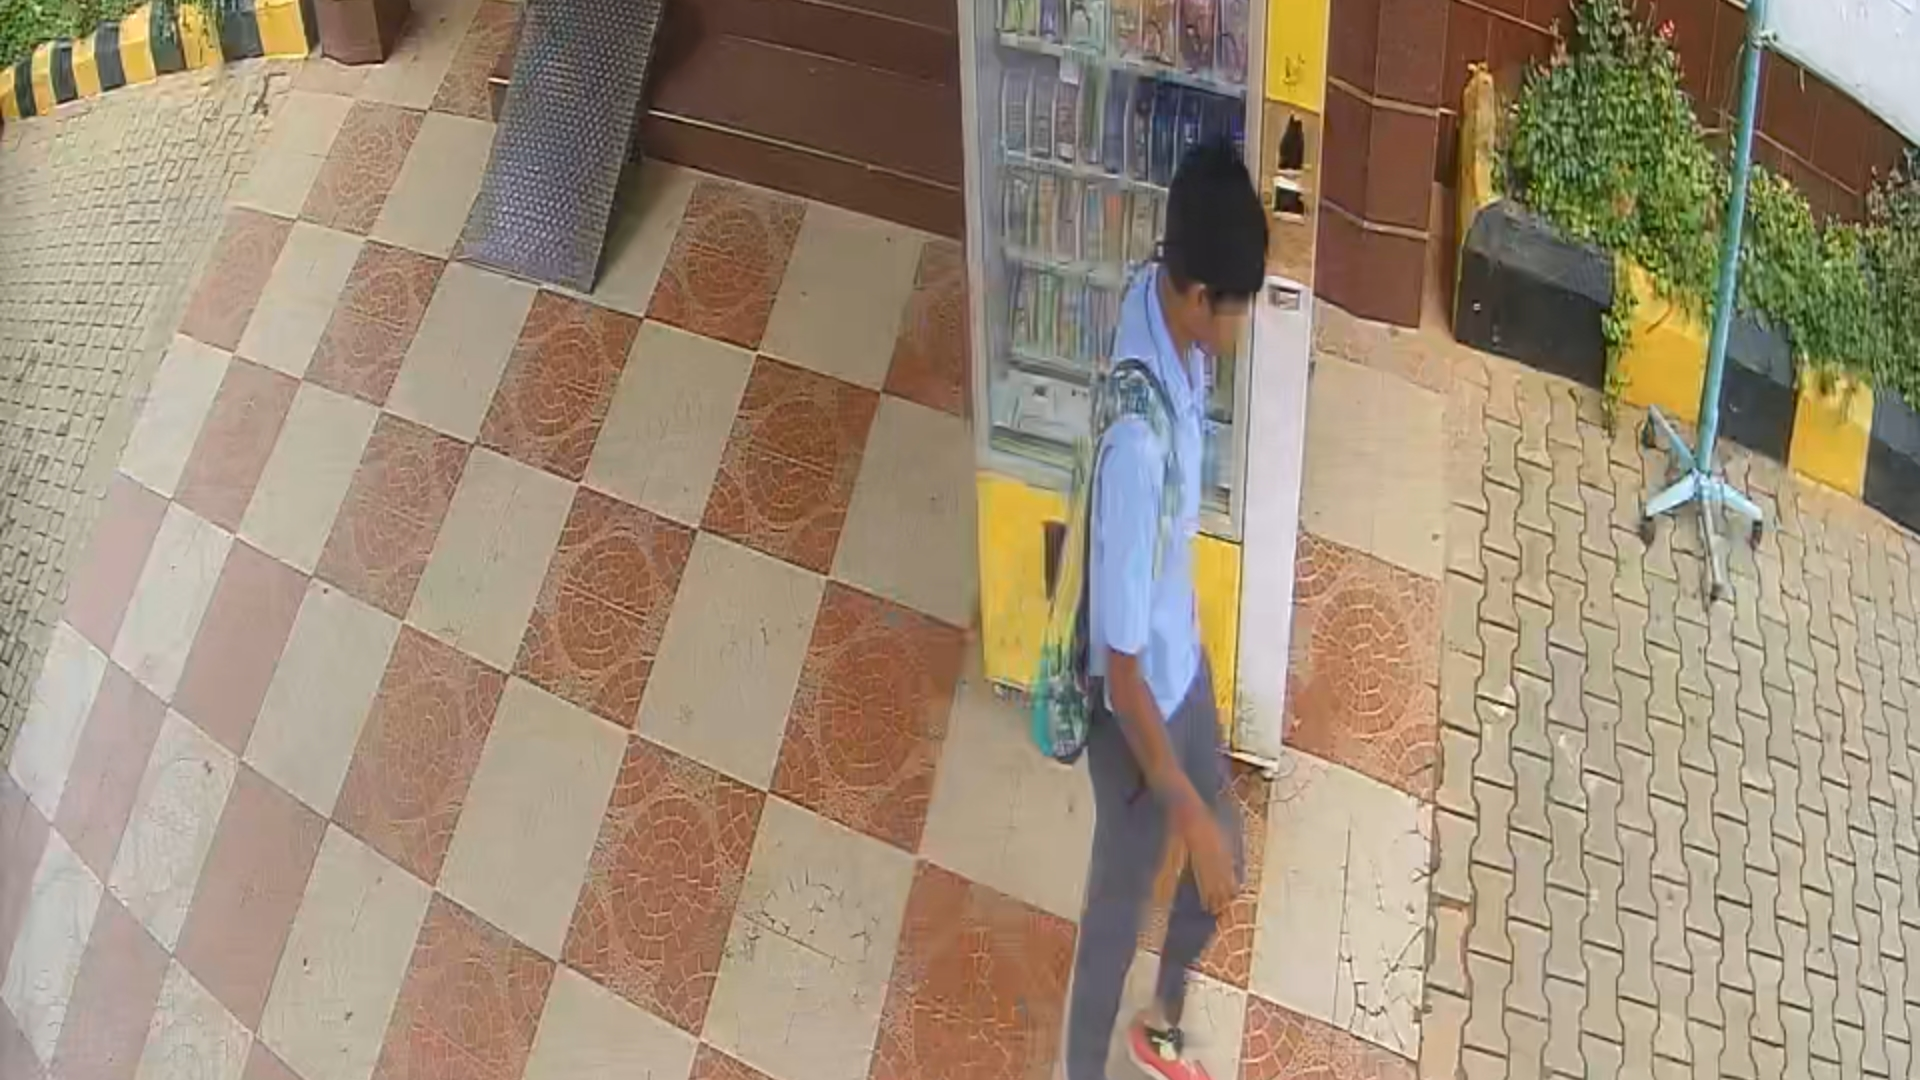intruder: (1054, 146, 1270, 1080)
